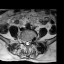CCS_stenosis: (26, 39, 28, 47)
LFS_normal: (30, 37, 32, 44)
LLS_normal: (28, 39, 30, 45)
RFS_normal: (22, 38, 24, 45)
RLS_normal: (24, 38, 26, 46)
